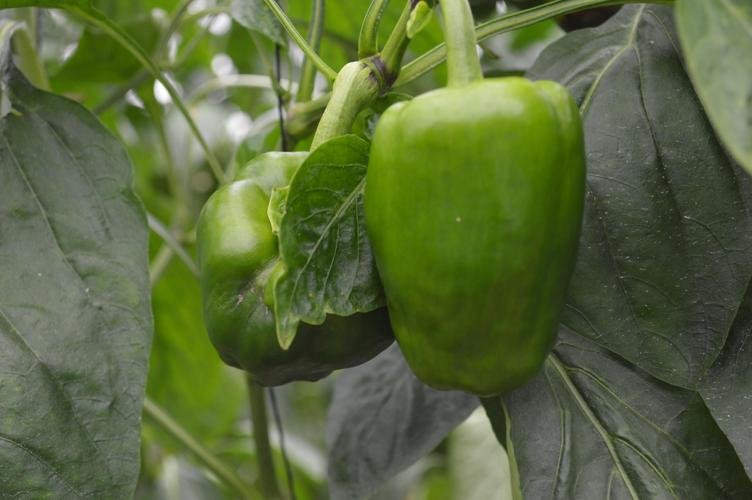BellPepper: (363, 78, 585, 392), (196, 146, 382, 377)
